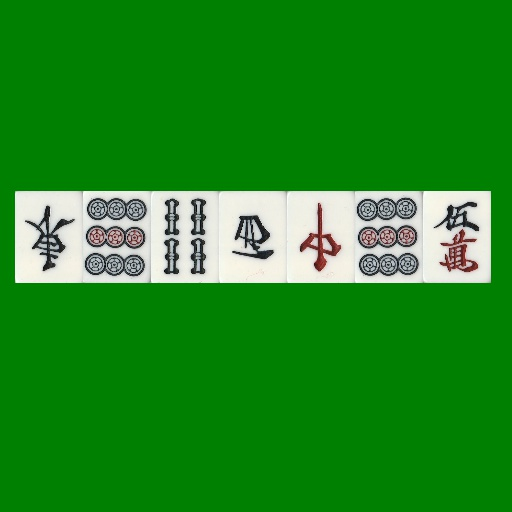4s: (151, 191, 219, 283)
5m: (423, 191, 491, 283)
9p: (83, 191, 151, 283), (355, 191, 423, 283)
east: (15, 191, 83, 283)
tyun: (287, 191, 355, 283)
west: (219, 191, 287, 283)
